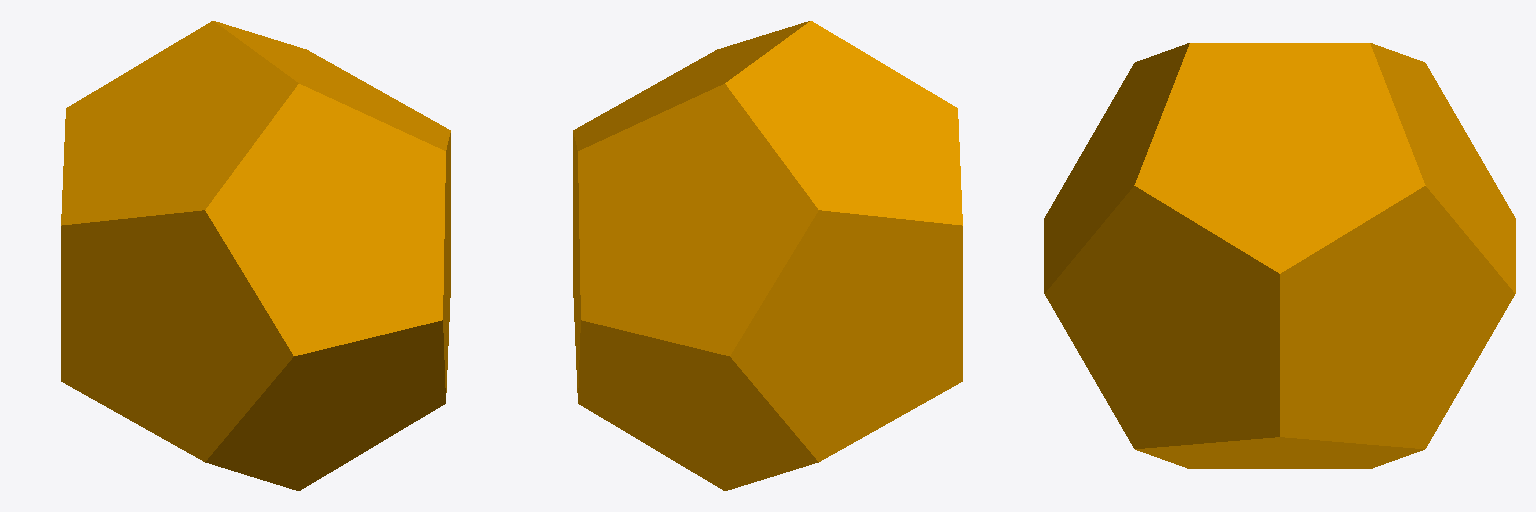
URDF robot description (object):
<?xml version="1.0"?>
<robot name="object">
  <link name="object">
    <visual>
      <origin xyz="0 0 0"/>
      <geometry>
        <mesh filename="meshes/set2/ball_2.obj" scale=".03 .03 .03"/>
      </geometry>
    </visual>
    <collision>
  <origin xyz="0 0 0"/>
  <geometry>
    <mesh filename="meshes/set2/ball_2_0decompose.obj" scale=".03 .03 .03"/>
  </geometry>
</collision>
    <inertial>
      <density value="1000.0"/>
    </inertial>
  </link>
</robot>

--- Facts derived from the render (not from the file) ---
Views: 3 orthographic renders of the robot side by side, from view 1: azimuth 30°, elevation 25°; view 2: azimuth 150°, elevation 25°; view 3: azimuth 270°, elevation 25°.
Robot: object — 1 links, 0 joints (none); root link object; default pose: every joint at zero.
Visible links, largest first — view 1: object; view 2: object; view 3: object.
Boxes of the visible links, bbox=[...] form: object: bbox=[61, 21, 450, 490]; object: bbox=[573, 21, 962, 490]; object: bbox=[1044, 43, 1515, 468].
Size in the robot's own frame: 0.06 by 0.06 by 0.06 metres.
1 mesh visuals loaded from 1 distinct referenced files (1 OBJ).
